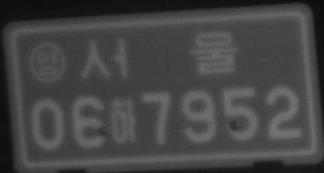0: (30, 97, 65, 152)
2: (265, 84, 303, 140)
5: (221, 86, 259, 142)
6: (72, 95, 109, 150)
7: (140, 90, 172, 146)
9: (181, 89, 216, 144)
서울_D: (81, 30, 239, 81)
영: (28, 41, 66, 84)
하: (109, 95, 137, 144)
